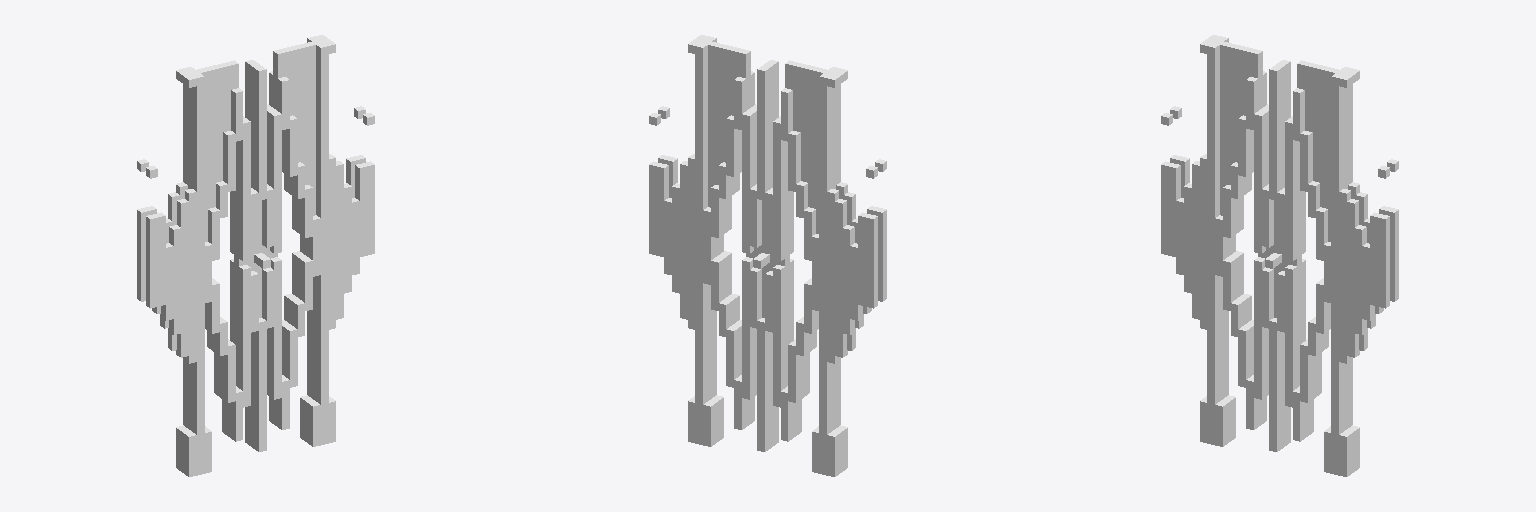
The model's file is James.obj.
3 views of the same model, side by side, from view 1: azimuth 30°, elevation 25°; view 2: azimuth 150°, elevation 25°; view 3: azimuth 330°, elevation 25° (orthographic).
Visible parts, largest first — view 1: James; view 2: James; view 3: James.
Part boxes in pixels (bbox=[...]): James: bbox=[137, 35, 374, 476]; James: bbox=[649, 35, 886, 476]; James: bbox=[1161, 35, 1398, 476].
Size of the model in its own units: 29 by 49 by 5.